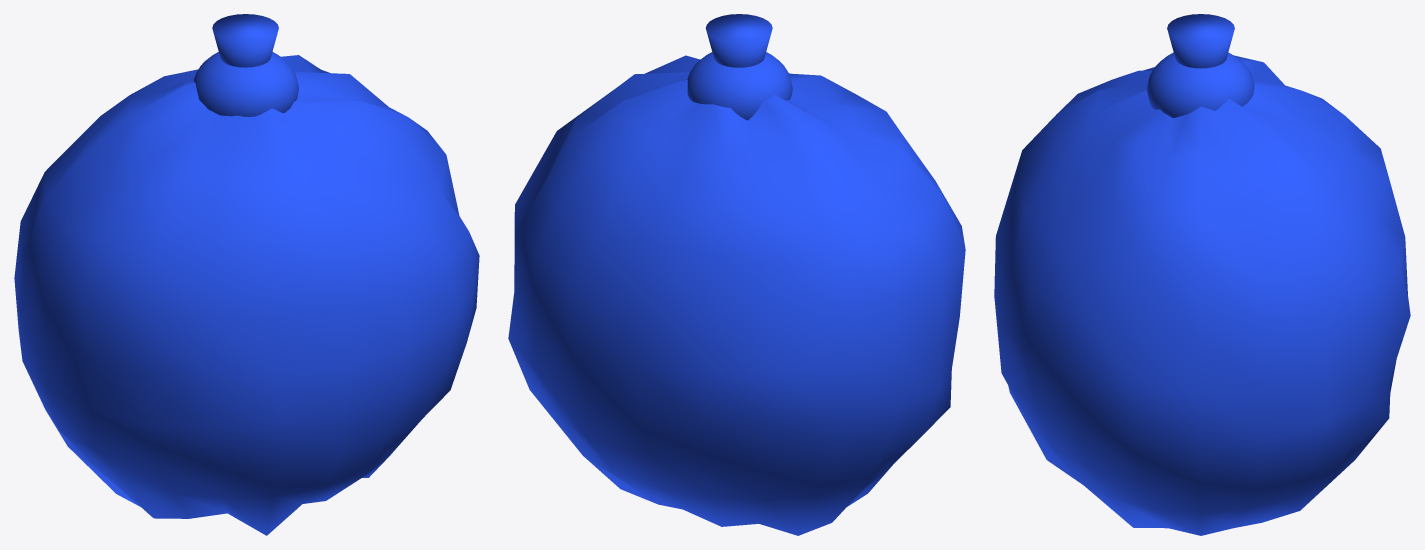
File: Trash_Bag_Blue.fbx
3 views of the same model, side by side, from view 1: azimuth 30°, elevation 25°; view 2: azimuth 150°, elevation 25°; view 3: azimuth 270°, elevation 25° (orthographic).
Parts seen in each view (by area): view 1: Trash_Bag_Blue; view 2: Trash_Bag_Blue; view 3: Trash_Bag_Blue.
Part boxes in pixels (bbox=[...]): Trash_Bag_Blue: bbox=[14, 14, 479, 535]; Trash_Bag_Blue: bbox=[508, 14, 965, 535]; Trash_Bag_Blue: bbox=[994, 14, 1410, 535].
Size of the model in its own units: 0.6967 by 0.7592 by 0.6131.
